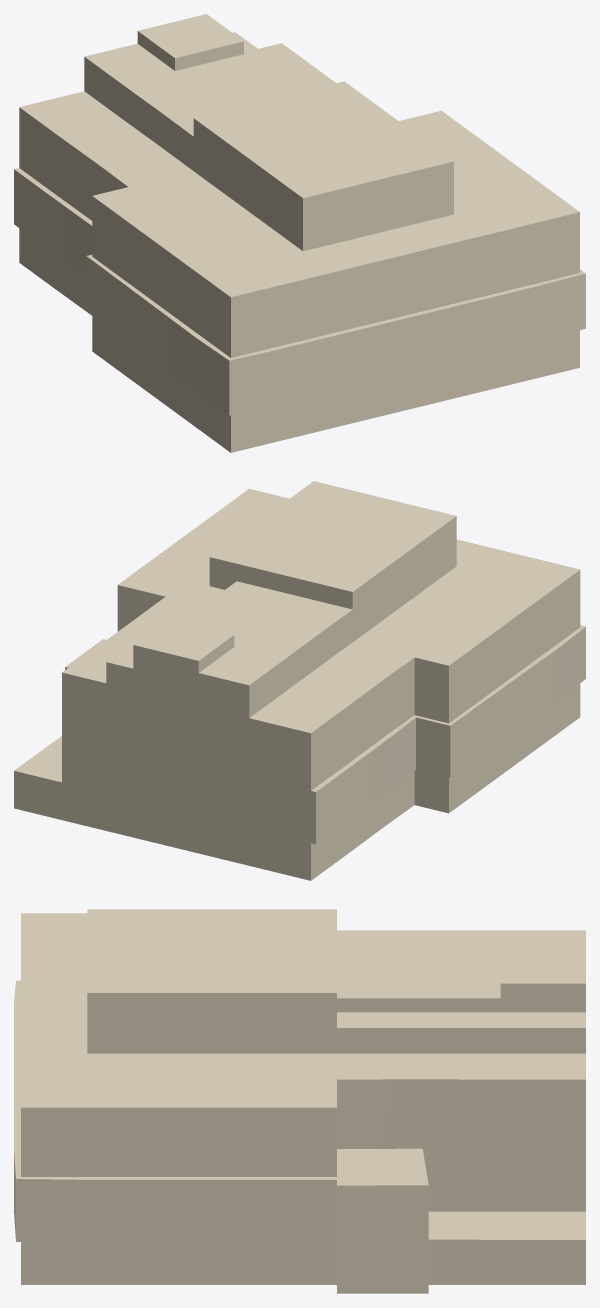
File: SM_Central_Library.fbx
3 renders of one model, top to bottom at view 1: azimuth 30°, elevation 25°; view 2: azimuth 150°, elevation 25°; view 3: azimuth 270°, elevation 25°, orthographic. The views are drawn at different scales.
Parts seen in each view (by area): view 1: SM_Central_Library; view 2: SM_Central_Library; view 3: SM_Central_Library.
Boxes of the visible parts, x1,y1,x2,y2 form: SM_Central_Library: (14, 14, 585, 452); SM_Central_Library: (14, 481, 585, 880); SM_Central_Library: (14, 909, 585, 1293).
Bounding box in the file's own units: 53.37 × 28.77 × 62.69.
